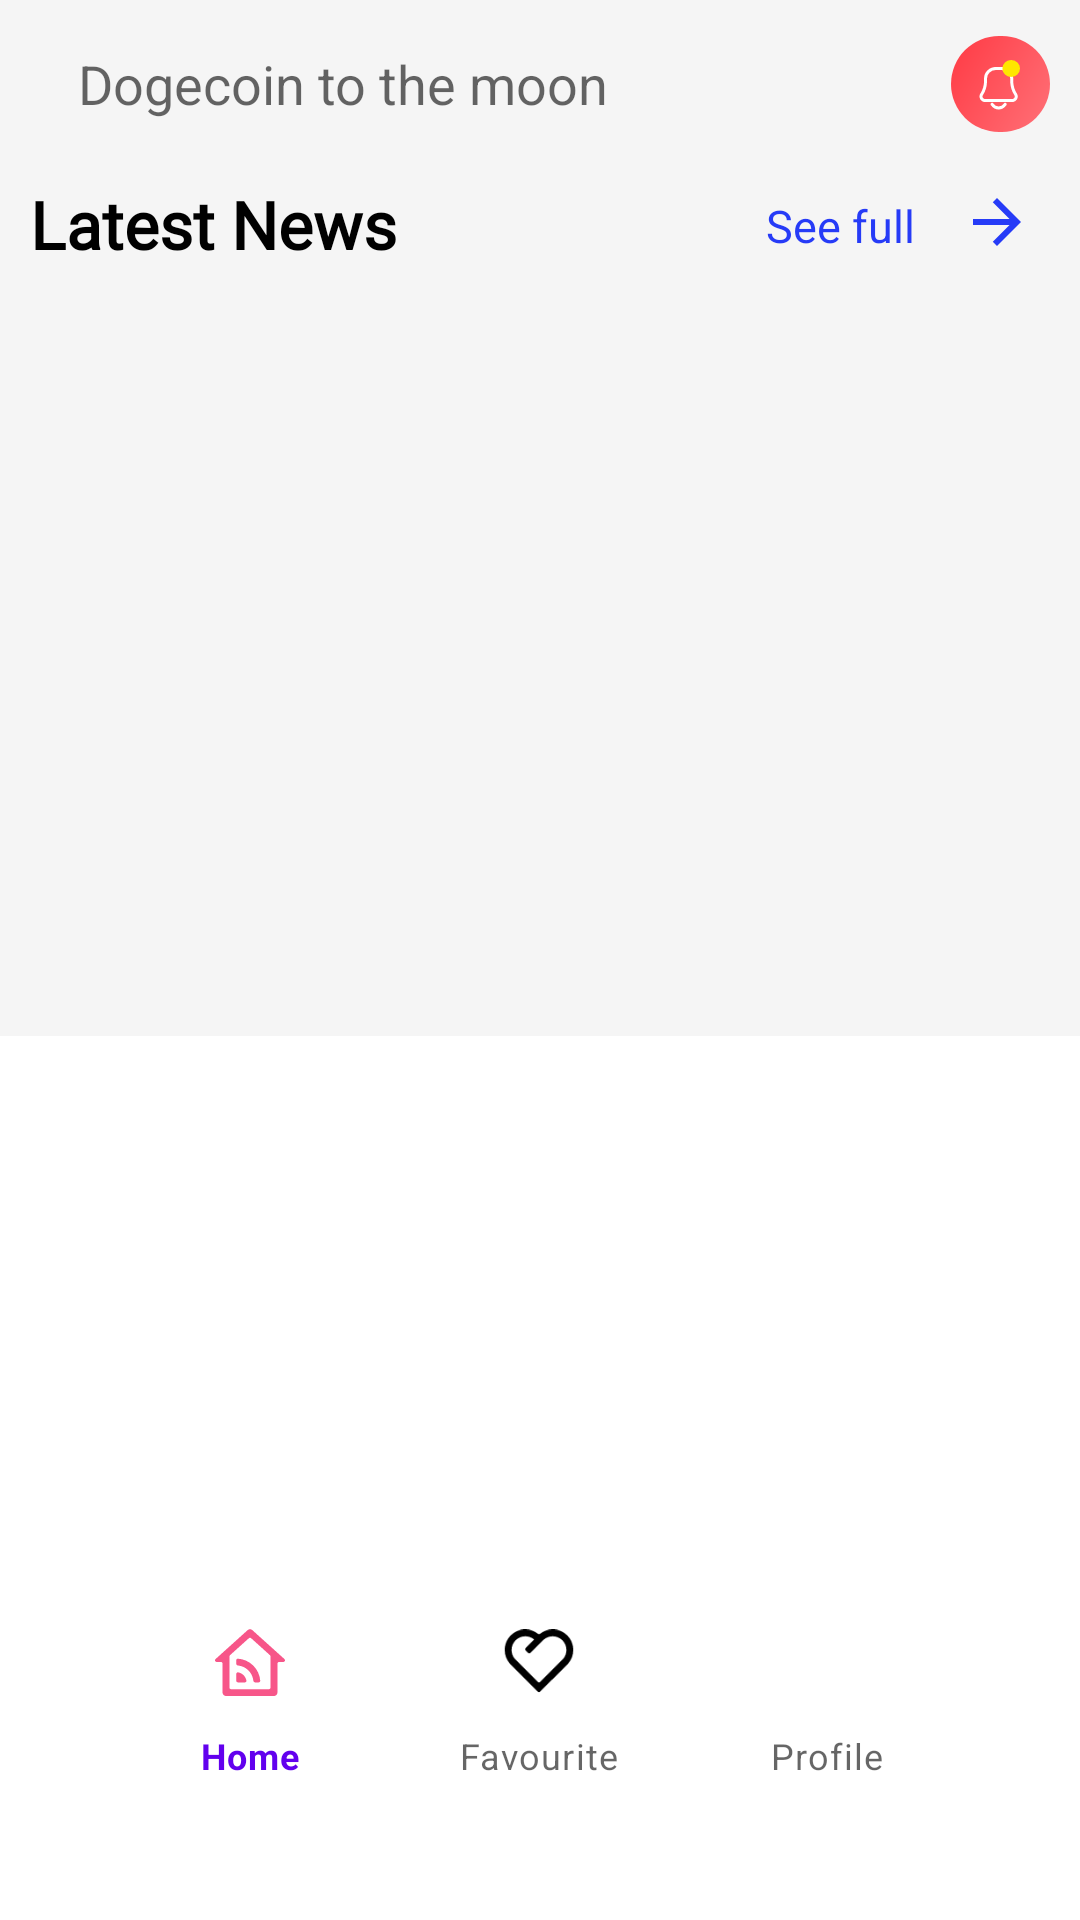

Locate icon controls on the screen. Image size 1080x1920, boxes as (x1, y1, x2, y2).
arrow forward: (973, 198, 1021, 246)
